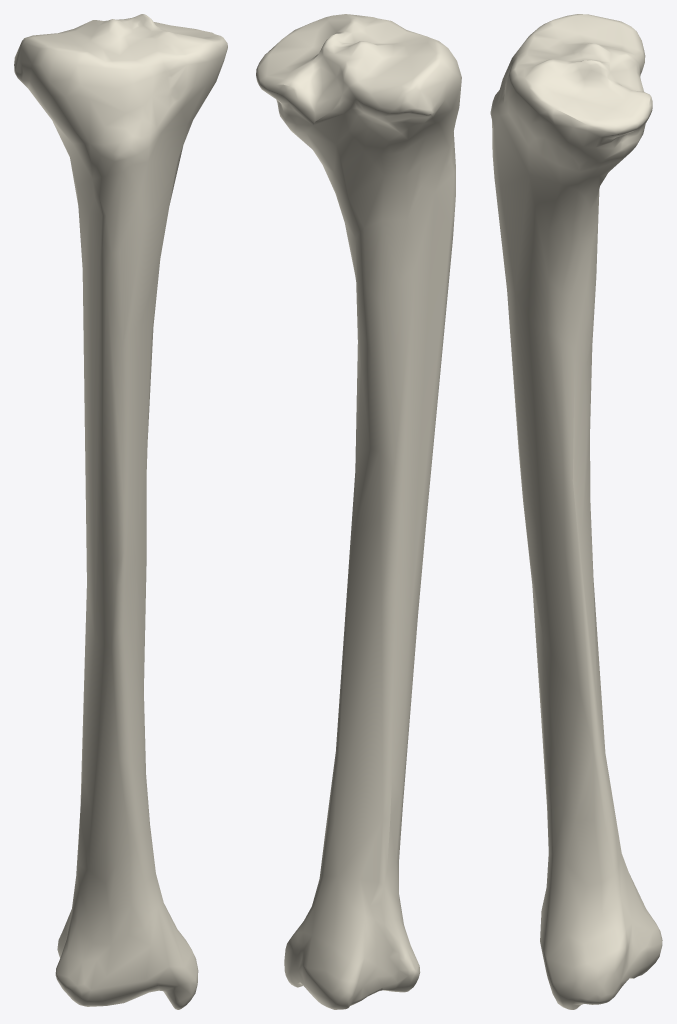
File: fma24477_fj6479.glb
3 views of the same model, side by side, from view 1: azimuth 30°, elevation 25°; view 2: azimuth 150°, elevation 25°; view 3: azimuth 270°, elevation 25° (orthographic). The views are drawn at different scales.
Visible parts, largest first — view 1: FMA24477_FJ6479; view 2: FMA24477_FJ6479; view 3: FMA24477_FJ6479.
Part boxes in pixels (x1=…): FMA24477_FJ6479: x1=14, y1=14, x2=227, y2=1009; FMA24477_FJ6479: x1=256, y1=14, x2=461, y2=1009; FMA24477_FJ6479: x1=490, y1=14, x2=662, y2=1009.
Size of the model in its own units: 0.0743 by 0.3798 by 0.0629.
